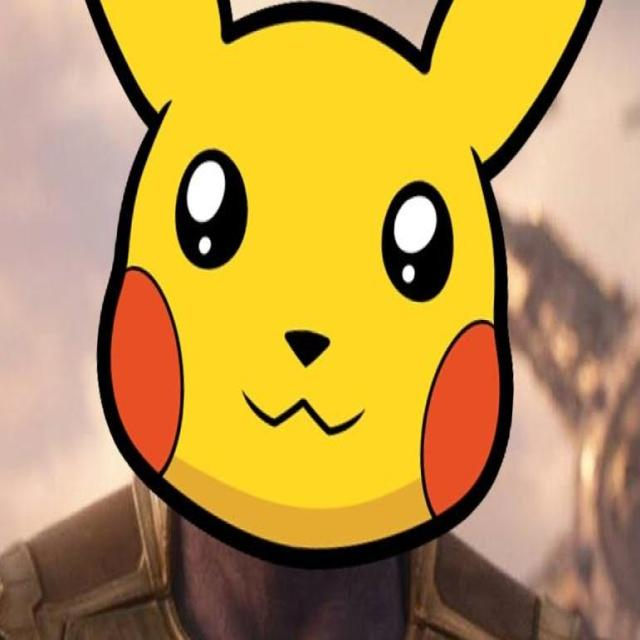pikachu: (101, 0, 587, 552)
